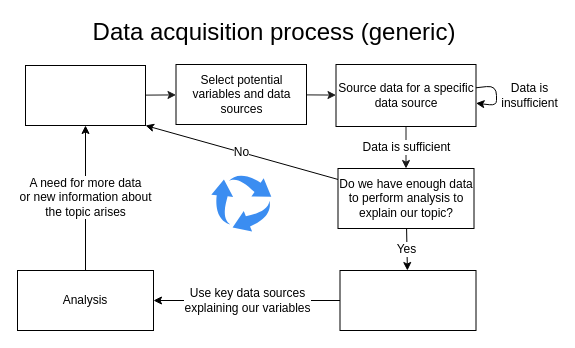
This 575x348 diagram has some shape labels left out. The centre of each missing label's shape, as x and y in pixels:
Conclude data acquisition (current cycle iteration ): point 407,300
Research and study the topic: point 85,95
